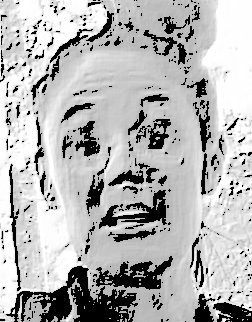nose_M_C: (102, 144, 145, 198)
